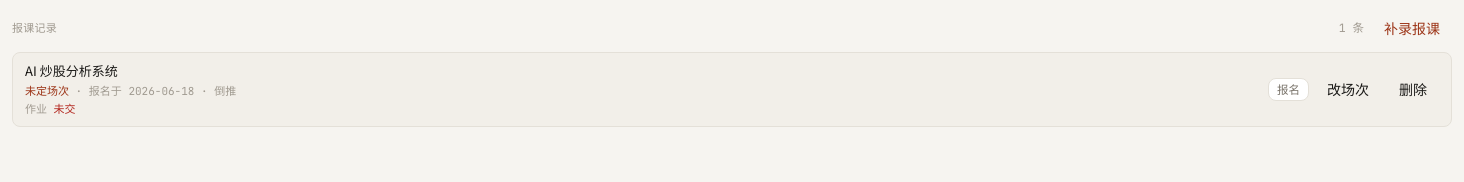
EnrollmentRows 的逐条编辑 › 写入进行中，这一条的所有出口都被禁用
Click the button "改场次": {"x": 1348, "y": 89} [1315,73,1381,105]
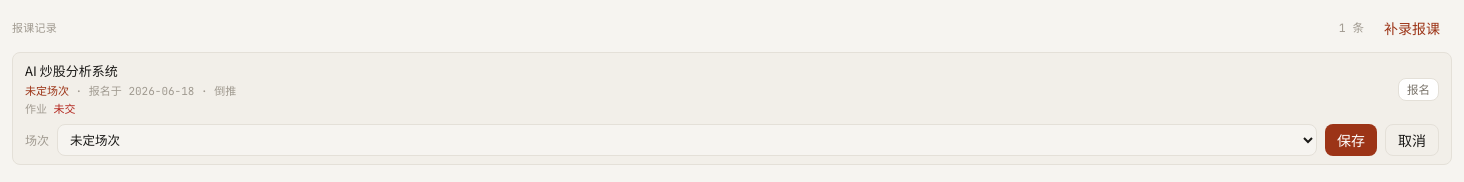
Click the button "保存": {"x": 1351, "y": 140} [1325,124,1377,156]
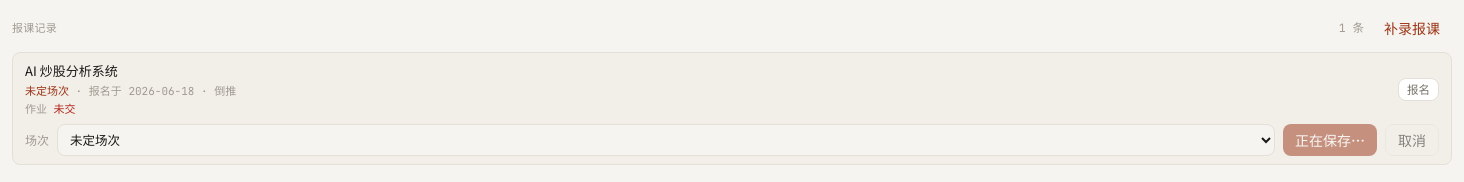
Check: the button "正在保存…" is disabled, box [1283,124,1377,156]
Check: the button "取消" is disabled, box [1385,124,1439,156]
